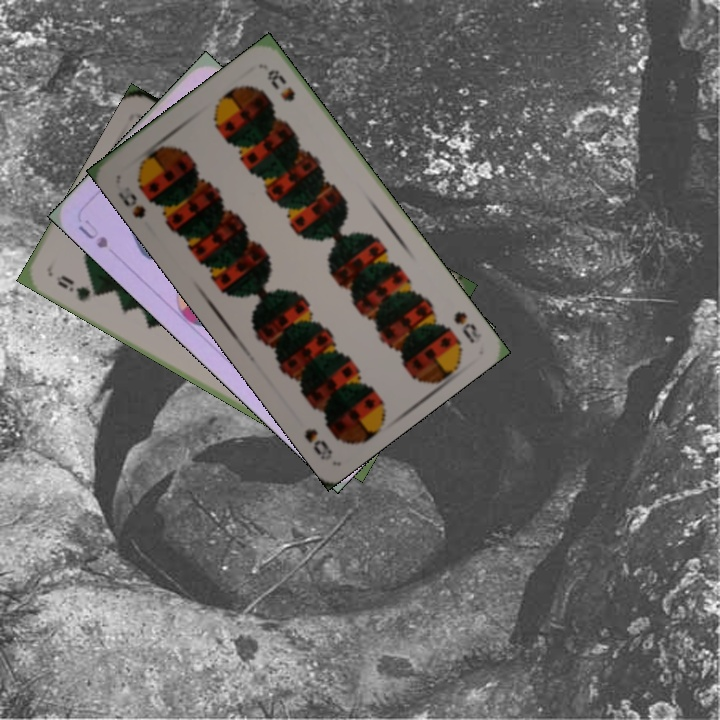G9: (53, 271, 105, 304)
S8: (449, 307, 484, 346), (114, 187, 149, 221)
SU: (74, 215, 111, 251)
